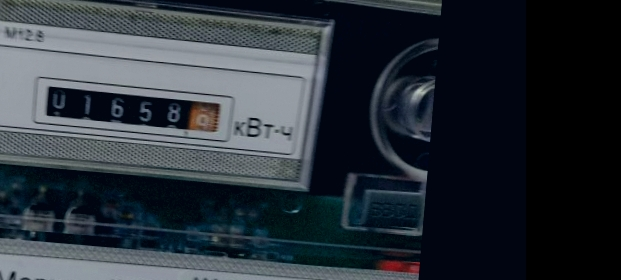0: (49, 87, 68, 109)
1: (78, 90, 94, 115)
5: (136, 97, 154, 123)
6: (107, 94, 127, 119)
8: (164, 100, 183, 123)
9: (192, 110, 210, 132)
screen: (28, 71, 238, 146)
